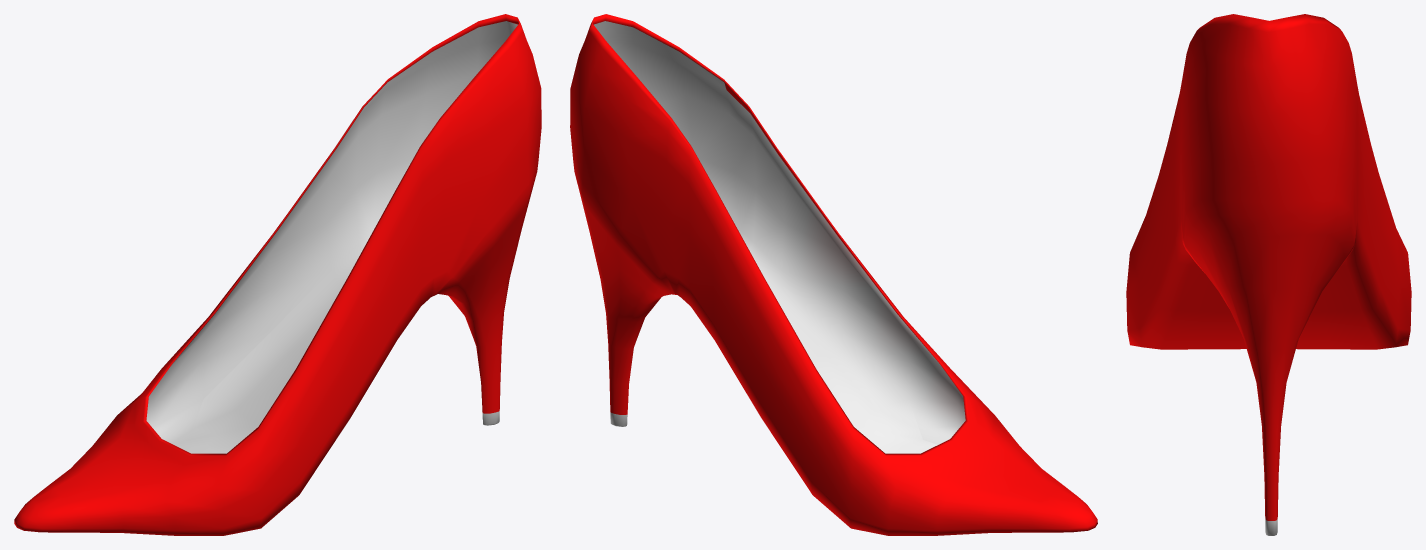
Rendered from shoe.FBX.
3 views of the same model, side by side, from view 1: azimuth 30°, elevation 25°; view 2: azimuth 150°, elevation 25°; view 3: azimuth 270°, elevation 25° (orthographic). The views are drawn at different scales.
Visible parts, largest first — view 1: Object008; view 2: Object008; view 3: Object008.
Boxes of the visible parts, <box> form: Object008: <box>14,14,541,535</box>; Object008: <box>570,14,1097,535</box>; Object008: <box>1126,14,1411,535</box>.
Bounding box in the file's own units: 756 × 559 × 274.
